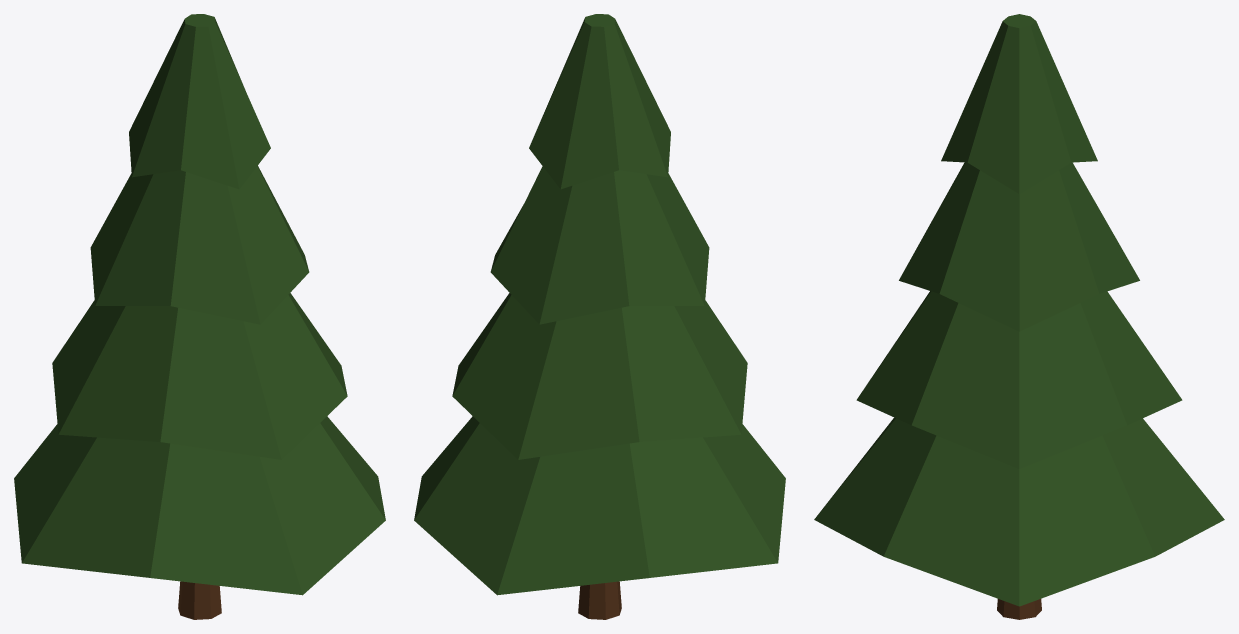
The model's file is SnowTreeType1.fbx.
3 renders of one model, left to right at view 1: azimuth 30°, elevation 25°; view 2: azimuth 150°, elevation 25°; view 3: azimuth 270°, elevation 25°, orthographic.
Visible parts, largest first — view 1: Cylinder; view 2: Cylinder; view 3: Cylinder.
Part boxes in pixels (left/top/right/bottom): Cylinder: left=14, top=14, right=385, bottom=619; Cylinder: left=414, top=14, right=785, bottom=619; Cylinder: left=814, top=14, right=1224, bottom=619.
Bounding box in the file's own units: 5.45 × 8.63 × 5.45.
